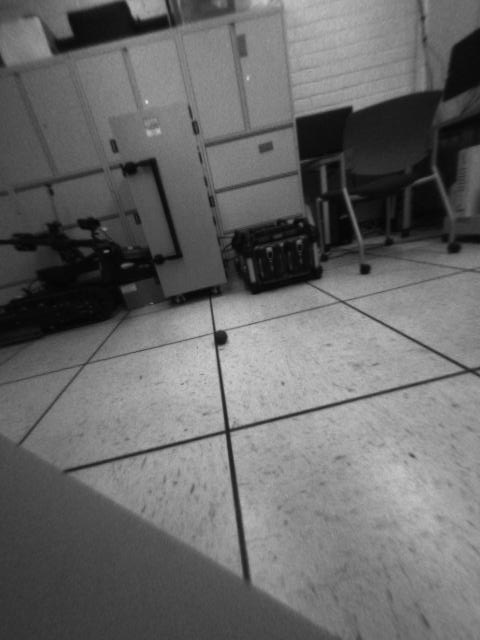dogtoy: (206, 321, 237, 353)
